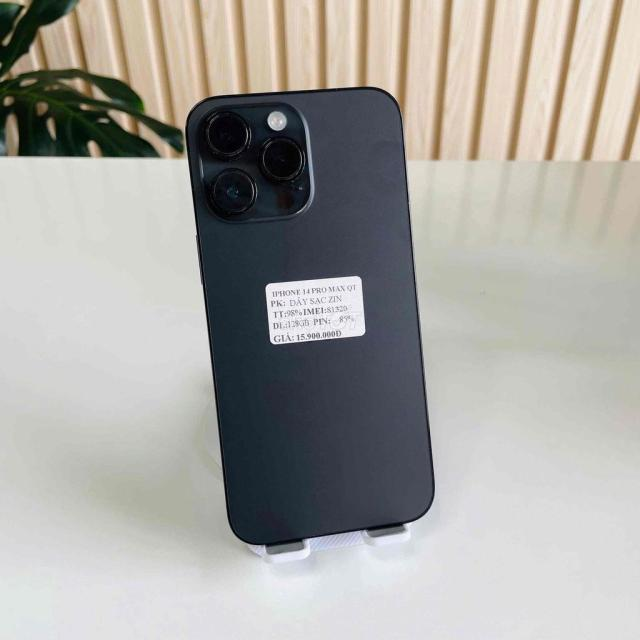gen_14: (175, 79, 444, 556)
